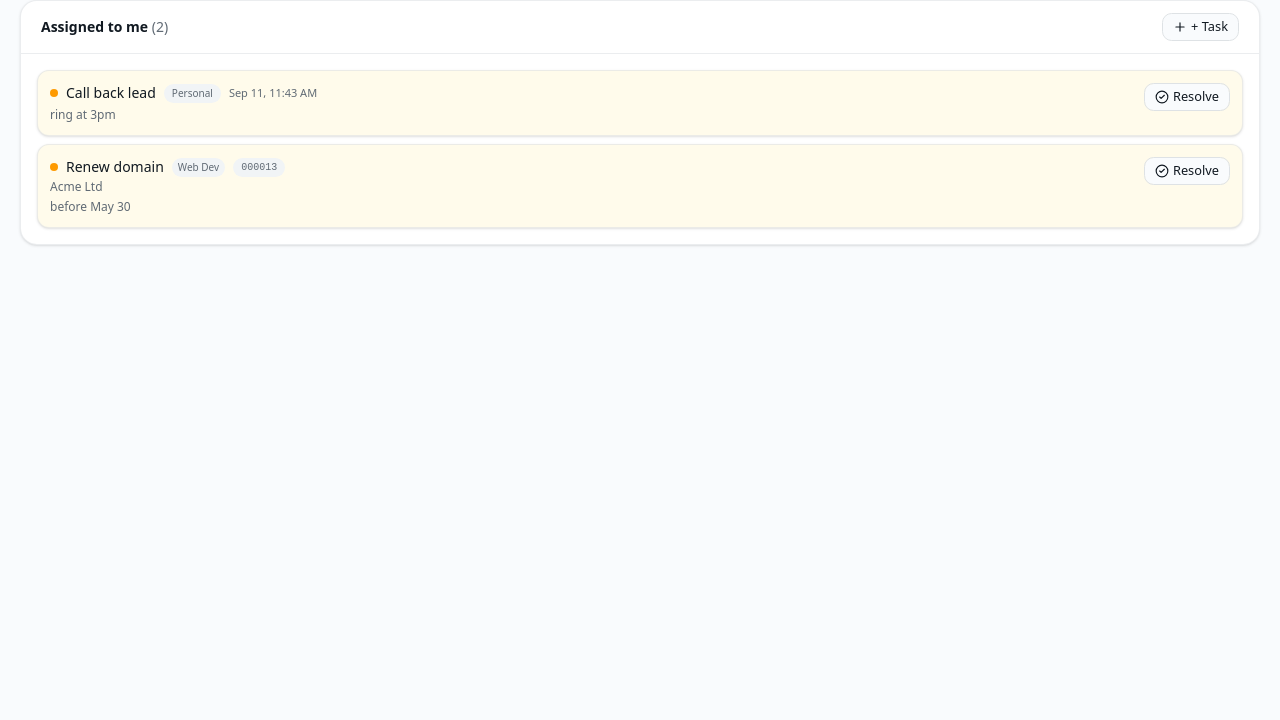
AssignedTasksColumn › clicking a personal task opens the edit dialog
The image size is (1280, 720).
Click the button "Call back lead Personal Sep 11, 11:43 AM ring at 3pm Resolve".
click(111, 92)  # box [37, 70, 1243, 136]
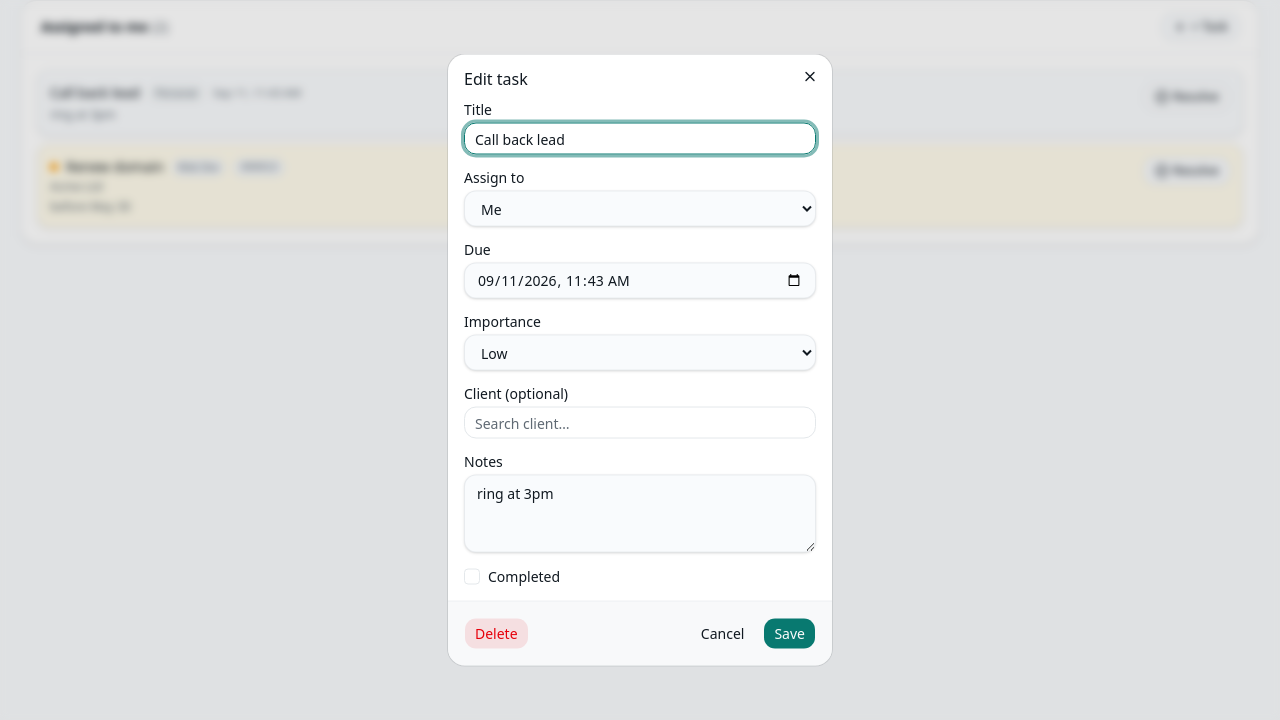
Expected: the dialog "Edit task" is shown, [448, 54, 832, 666]
